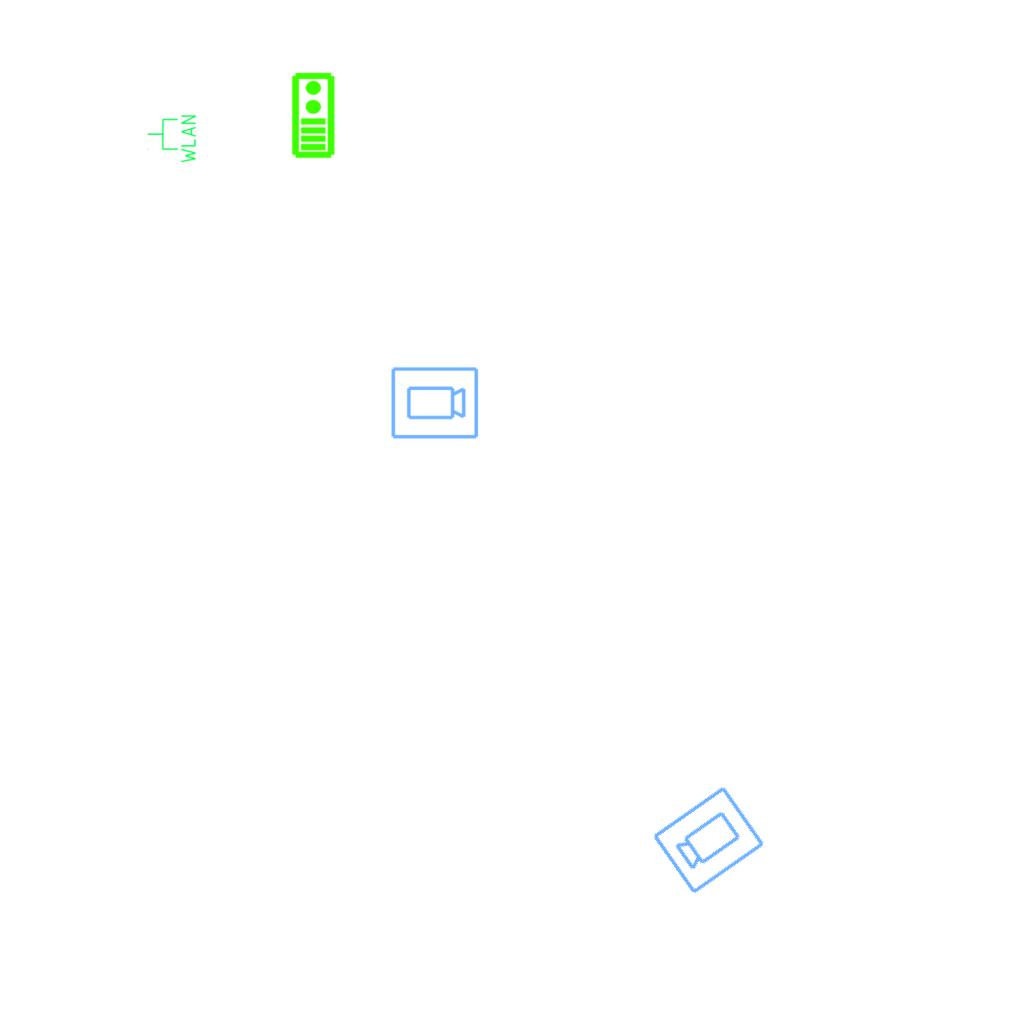Gegensprechanlage_mit_Video: (289, 71, 336, 159)
KFO_Kamera_mit_Festobjektiv: (649, 781, 768, 898), (389, 365, 480, 442)
WLAN: (146, 113, 198, 165)
